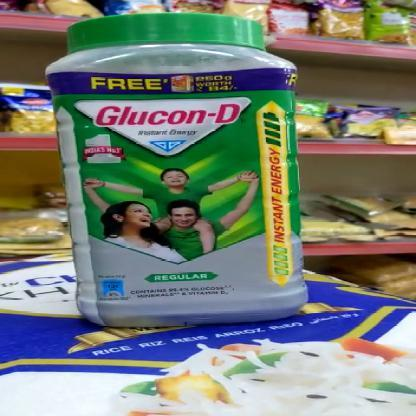Glucon D Regular 2-KG: (58, 18, 304, 322)
